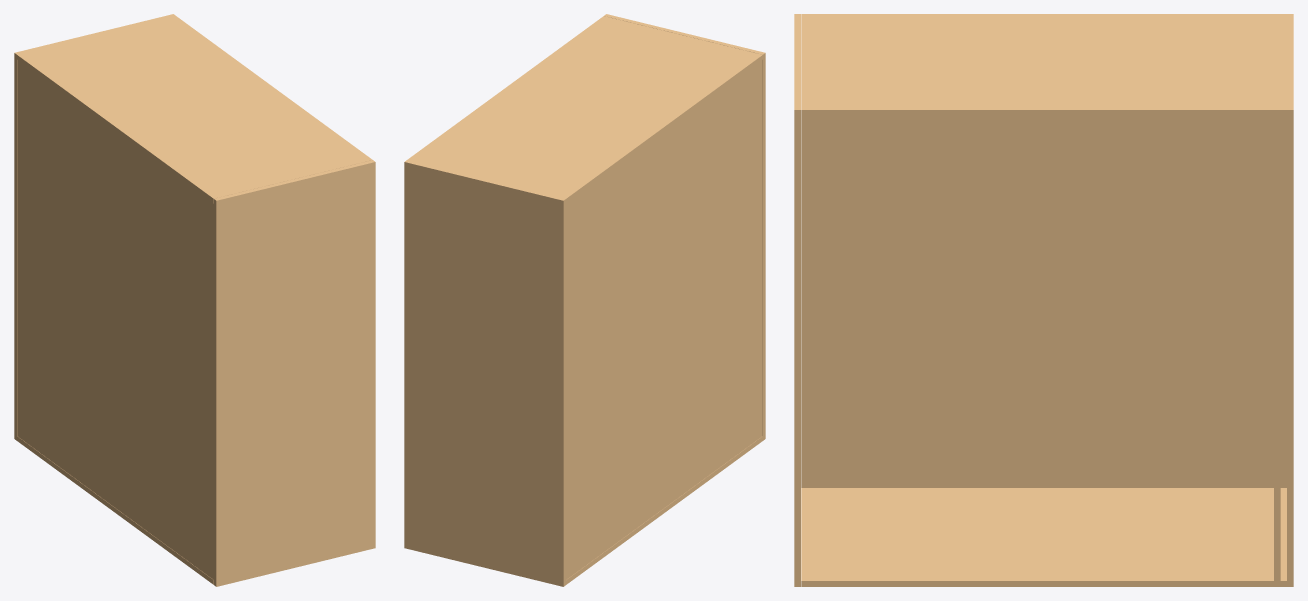
3 views of the same model, side by side, from view 1: azimuth 30°, elevation 25°; view 2: azimuth 150°, elevation 25°; view 3: azimuth 270°, elevation 25° (orthographic). The views are drawn at different scales.
Parts seen in each view (by area): view 1: ROOT_link (×5); view 2: ROOT_link (×5); view 3: ROOT_link (×6).
Part boxes in pixels (x1=…): ROOT_link (×5): x1=14, y1=14, x2=375, y2=586; ROOT_link (×5): x1=404, y1=14, x2=765, y2=586; ROOT_link (×6): x1=794, y1=14, x2=1293, y2=586.
Bounding box in the file's own units: 0.345 × 0.8 × 0.759.
